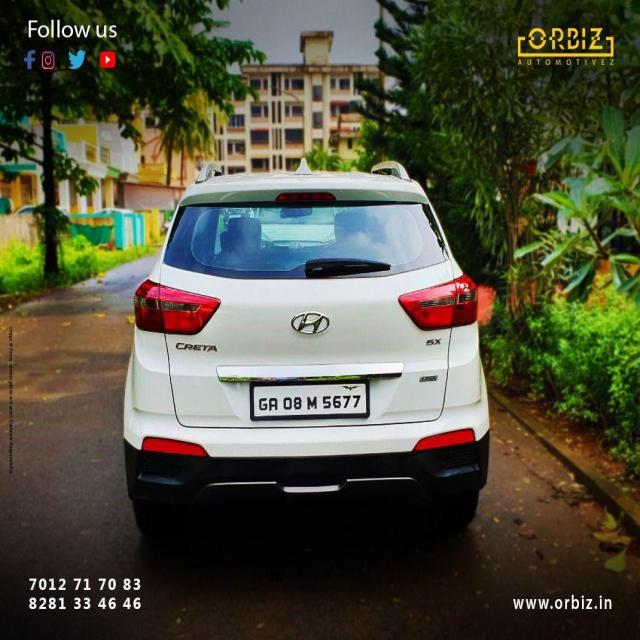number_plate: (253, 386, 366, 416)
